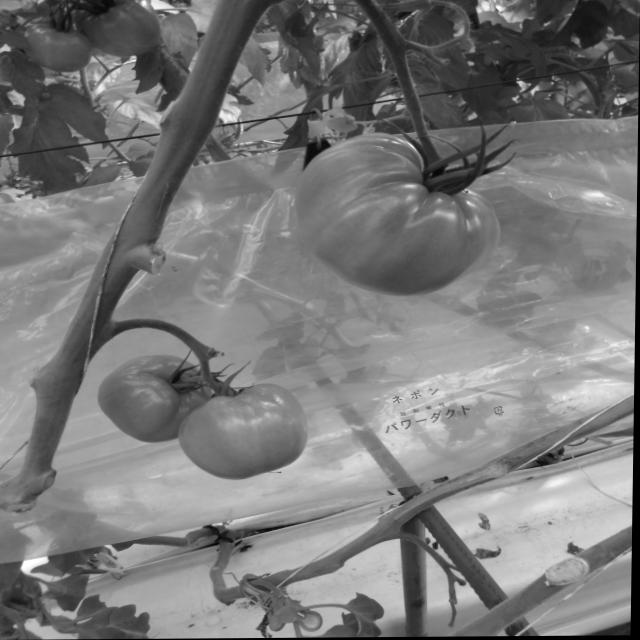yesil: (76, 272, 333, 523), (255, 103, 499, 303)
